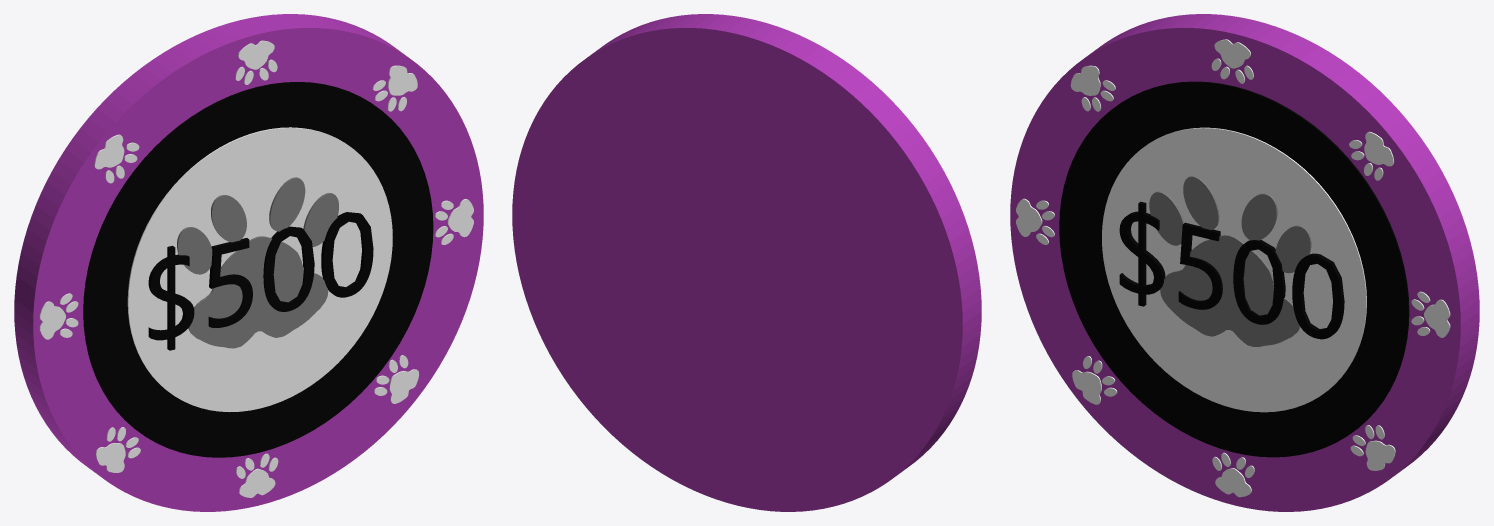
File: Purple paw chip.fbx
3 views of the same model, side by side, from view 1: azimuth 30°, elevation 25°; view 2: azimuth 150°, elevation 25°; view 3: azimuth 330°, elevation 25° (orthographic).
Visible parts, largest first — view 1: root (×2), node_id4, node_id309, node_id258, node_id260, node_id215, node_id220, node_id242, node_id161, node_id192, node_id226, node_id231 (+1 smaller); view 2: node_id4; view 3: root (×2), node_id4, node_id309, node_id258, node_id260, node_id226, node_id231, node_id220, node_id215, node_id192, node_id237, node_id161 (+1 smaller).
Boxes of the visible parts, x1,y1,x2,y2 form: root (×2): (83,82,433,457); node_id4: (14,14,483,511); node_id309: (148,212,373,350); node_id258: (188,236,328,348); node_id260: (177,177,338,274); node_id215: (94,134,124,169); node_id220: (389,369,419,403); node_id242: (39,301,65,339); node_id161: (239,468,275,497); node_id192: (238,40,274,69); node_id226: (388,65,417,95); node_id231: (95,443,125,472); node_id4: (512,14,981,511); root (×2): (1059,81,1409,457); node_id4: (1010,14,1479,511); node_id309: (1119,201,1344,339); node_id258: (1160,235,1300,346); node_id260: (1149,176,1311,273); node_id226: (1364,131,1394,166); node_id231: (1072,370,1101,404); node_id220: (1365,440,1395,470); node_id215: (1070,65,1100,95); node_id192: (1214,39,1250,68); node_id237: (1424,299,1450,337); node_id161: (1215,468,1251,497).
Size of the model in its own units: 0.5155 by 0.5155 by 0.0459.
Materials: 8 (5 with a texture image).
